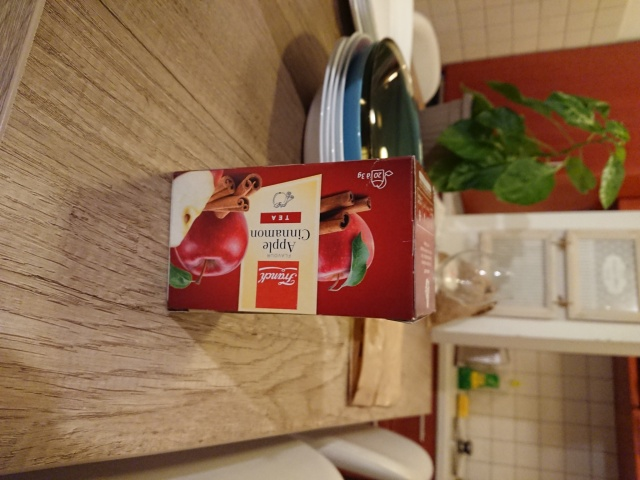Franck Apple Cinnamon Tea 60g: (163, 152, 439, 327)
